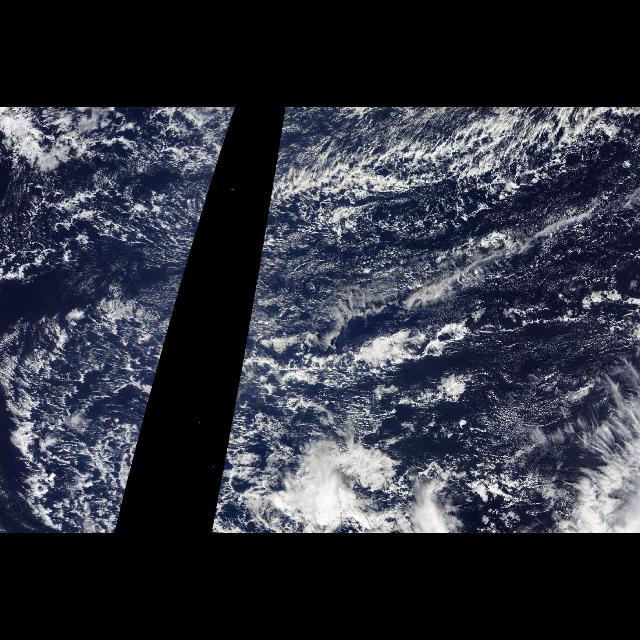Fish: (277, 116, 615, 254), (242, 288, 488, 454)
Gravel: (300, 136, 628, 370), (7, 311, 175, 527), (211, 311, 263, 527)
Sugar: (7, 314, 173, 516), (278, 111, 630, 181), (496, 262, 592, 472)
